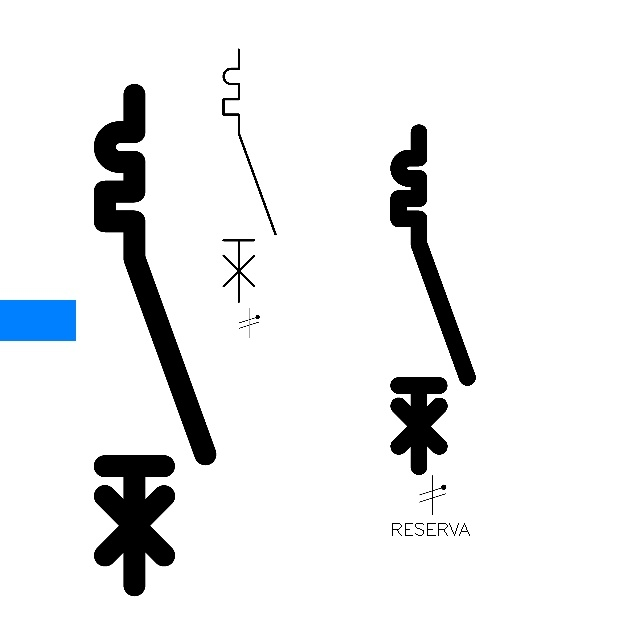interruptor_termomagnetico: (92, 82, 218, 598), (390, 124, 476, 475), (217, 43, 282, 308)
